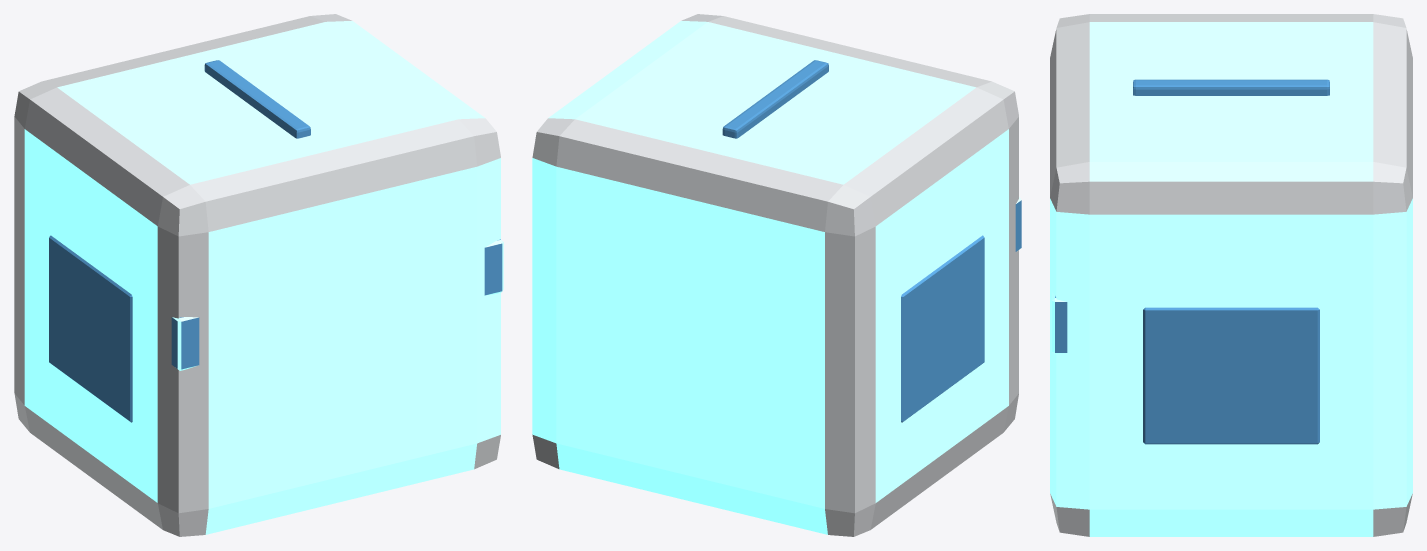
The model's file is helmet__sleek_visor.glb.
3 renders of one model, left to right at view 1: azimuth 30°, elevation 25°; view 2: azimuth 150°, elevation 25°; view 3: azimuth 270°, elevation 25°, orthographic. The views are drawn at different scales.
Visible parts, largest first — view 1: armor_armor_helmet__sleek_visor_v001_v001; view 2: armor_armor_helmet__sleek_visor_v001_v001; view 3: armor_armor_helmet__sleek_visor_v001_v001.
Boxes of the visible parts, x1,y1,x2,y2 form: armor_armor_helmet__sleek_visor_v001_v001: (14,14,503,536); armor_armor_helmet__sleek_visor_v001_v001: (532,14,1021,536); armor_armor_helmet__sleek_visor_v001_v001: (1050,14,1412,536).
Size of the model in its own units: 0.2713 by 0.2718 by 0.2377.
